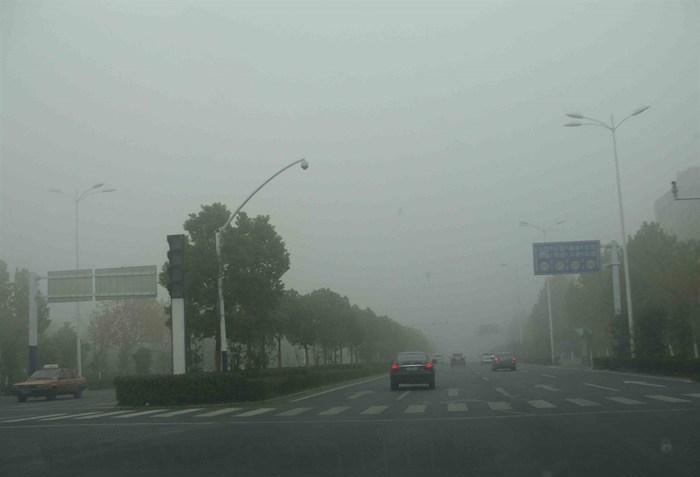car: (12, 362, 88, 401), (389, 350, 439, 390), (489, 350, 517, 372), (449, 352, 467, 368), (479, 350, 496, 364), (431, 352, 445, 364)
